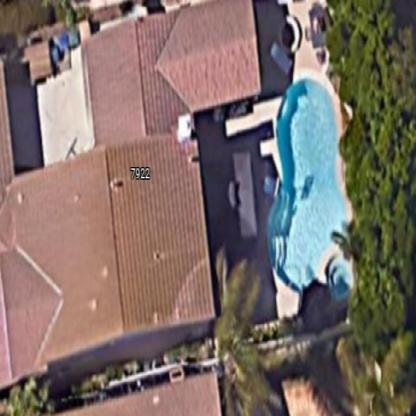pool: (261, 55, 363, 309)
